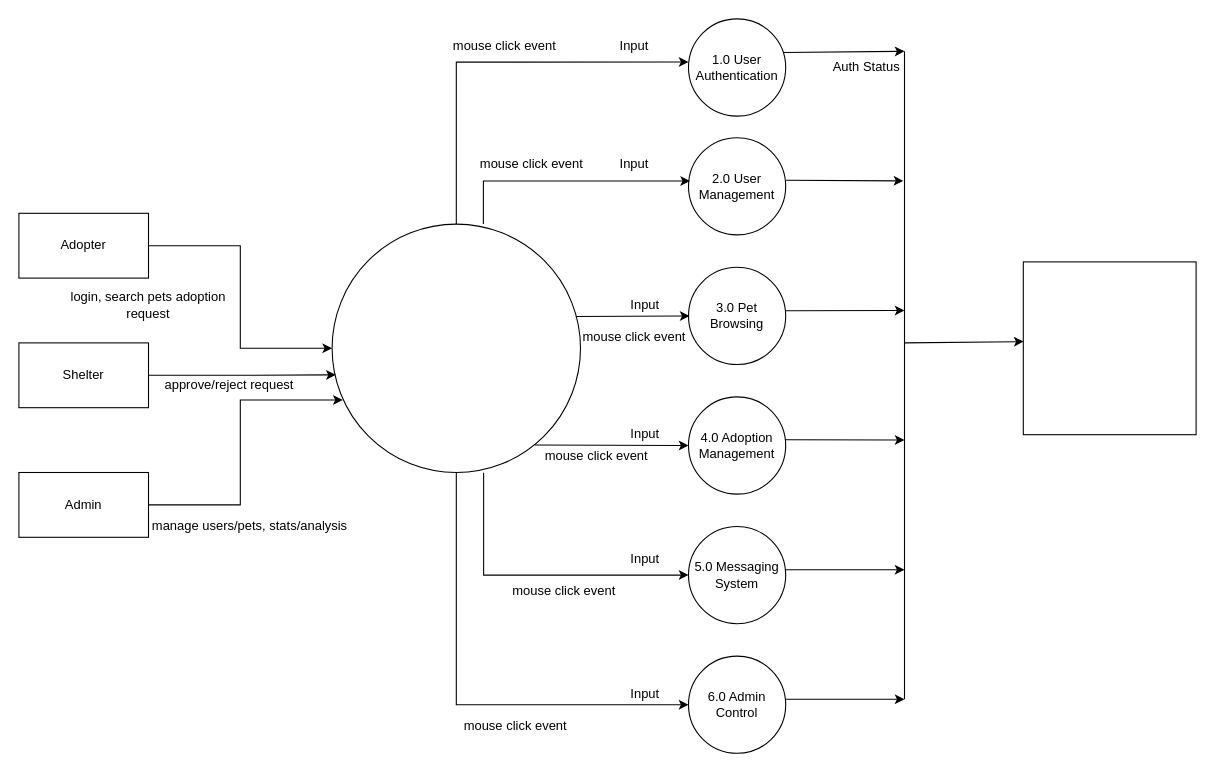
The diagram is 1215 pixels wide and 772 high, and some of its shapes have lost their labels. Each missing label, with the box of its shape:
Aurelia Pet Adoption System: (331, 223, 580, 473)
Pet details Adoption status Messages User profile: (1022, 261, 1196, 435)
